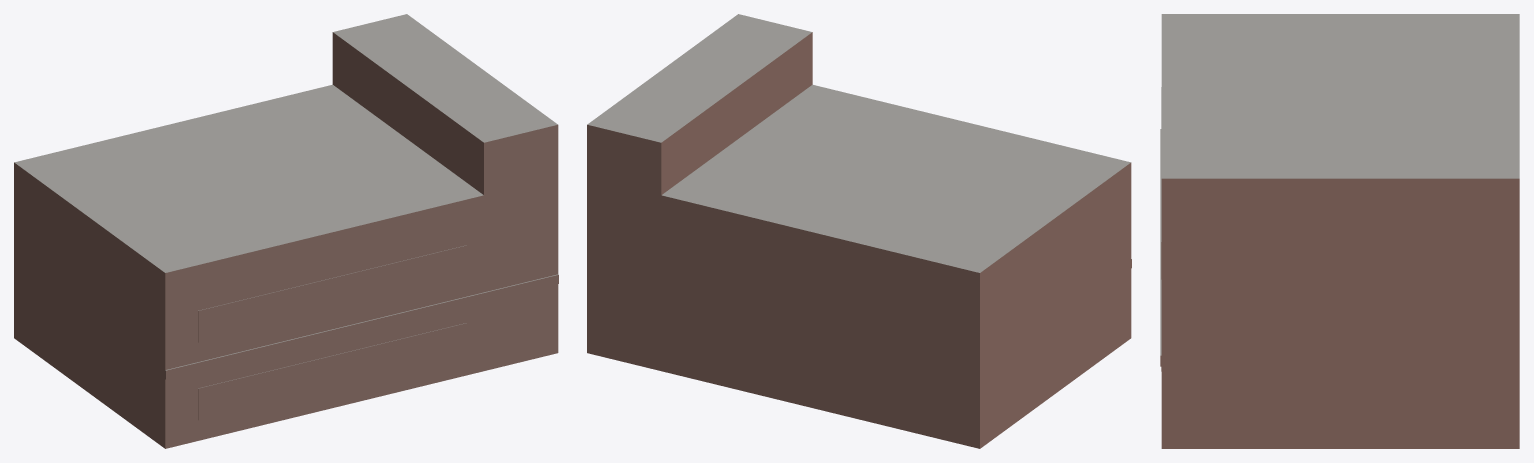
The model's file is police-station.far-facades-v1.lod2.glb.
The picture shows the model from 3 angles, left to right: view 1: azimuth 30°, elevation 25°; view 2: azimuth 150°, elevation 25°; view 3: azimuth 270°, elevation 25°; orthographic projection. The views are drawn at different scales.
Visible parts, largest first — view 1: police-station; view 2: police-station; view 3: police-station.
Boxes of the visible parts, x1,y1,x2,y2 form: police-station: [14, 14, 558, 448]; police-station: [587, 14, 1131, 448]; police-station: [1160, 14, 1519, 448].
Size of the model in its own units: 18 by 10 by 12.05.
